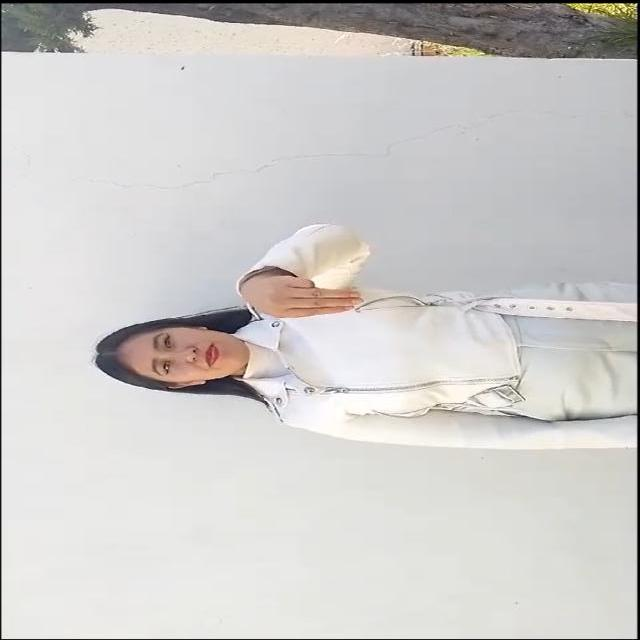M: (232, 267, 376, 327)
